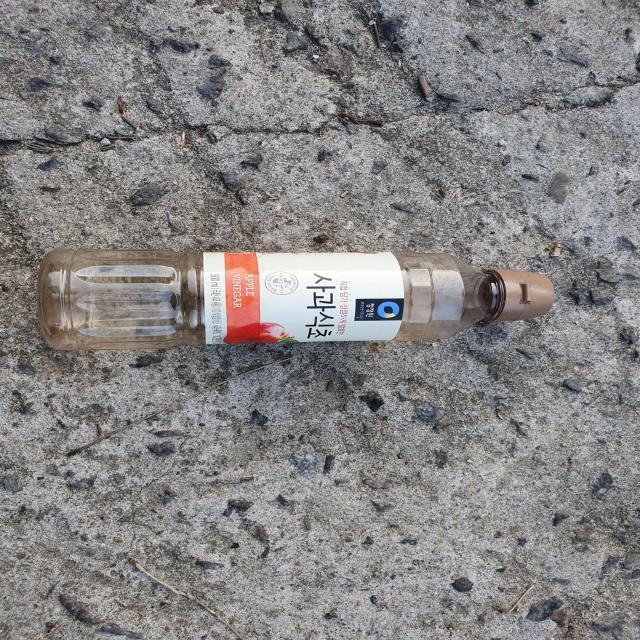plastic: (36, 249, 554, 350)
